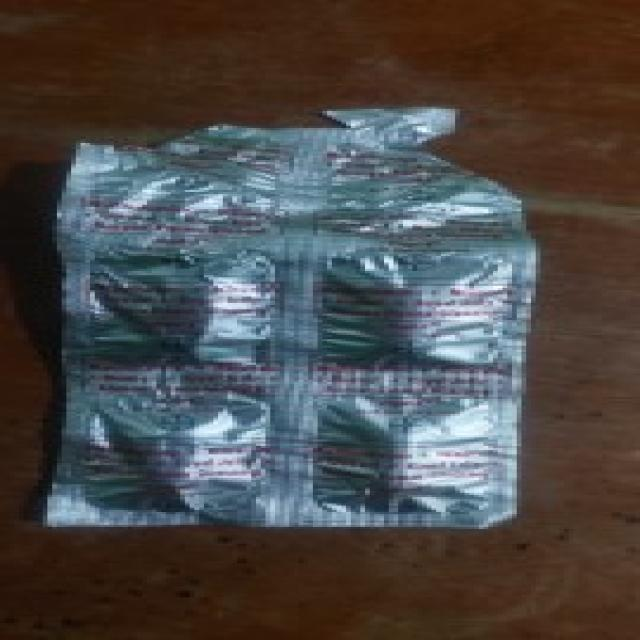Cacat: (43, 93, 536, 530)
Kemasan: (69, 103, 510, 239)
